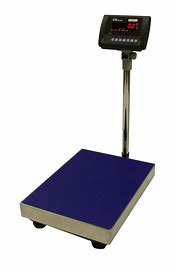Industrial Scale: (16, 13, 158, 251)
